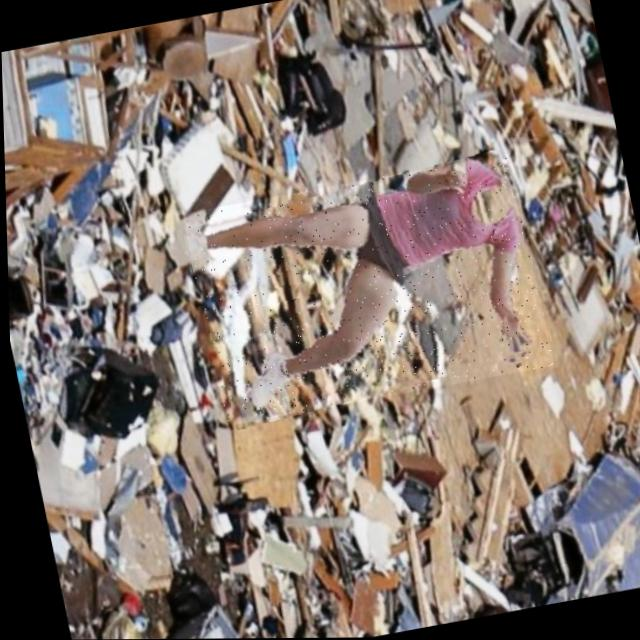Person in Rubble: (178, 153, 551, 426)
